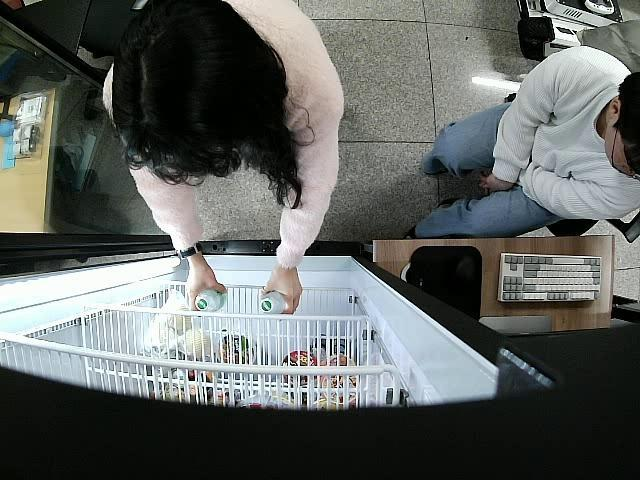18_trevi: (195, 284, 226, 312), (259, 292, 287, 318)
